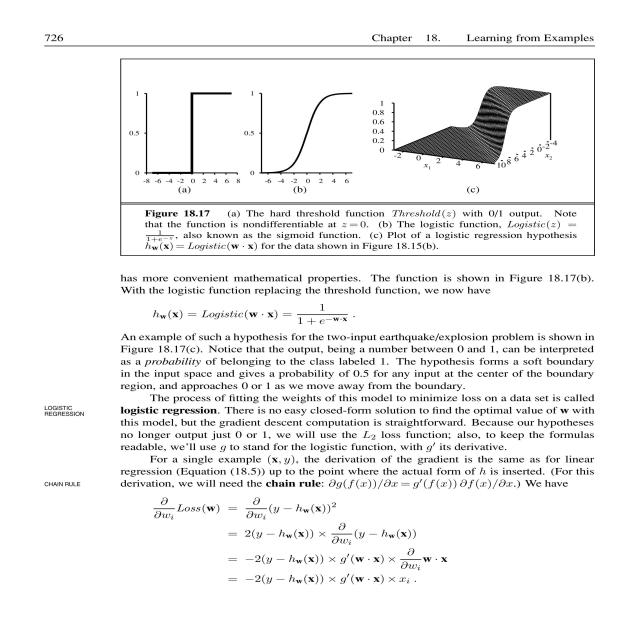diagram: (118, 57, 608, 256)
